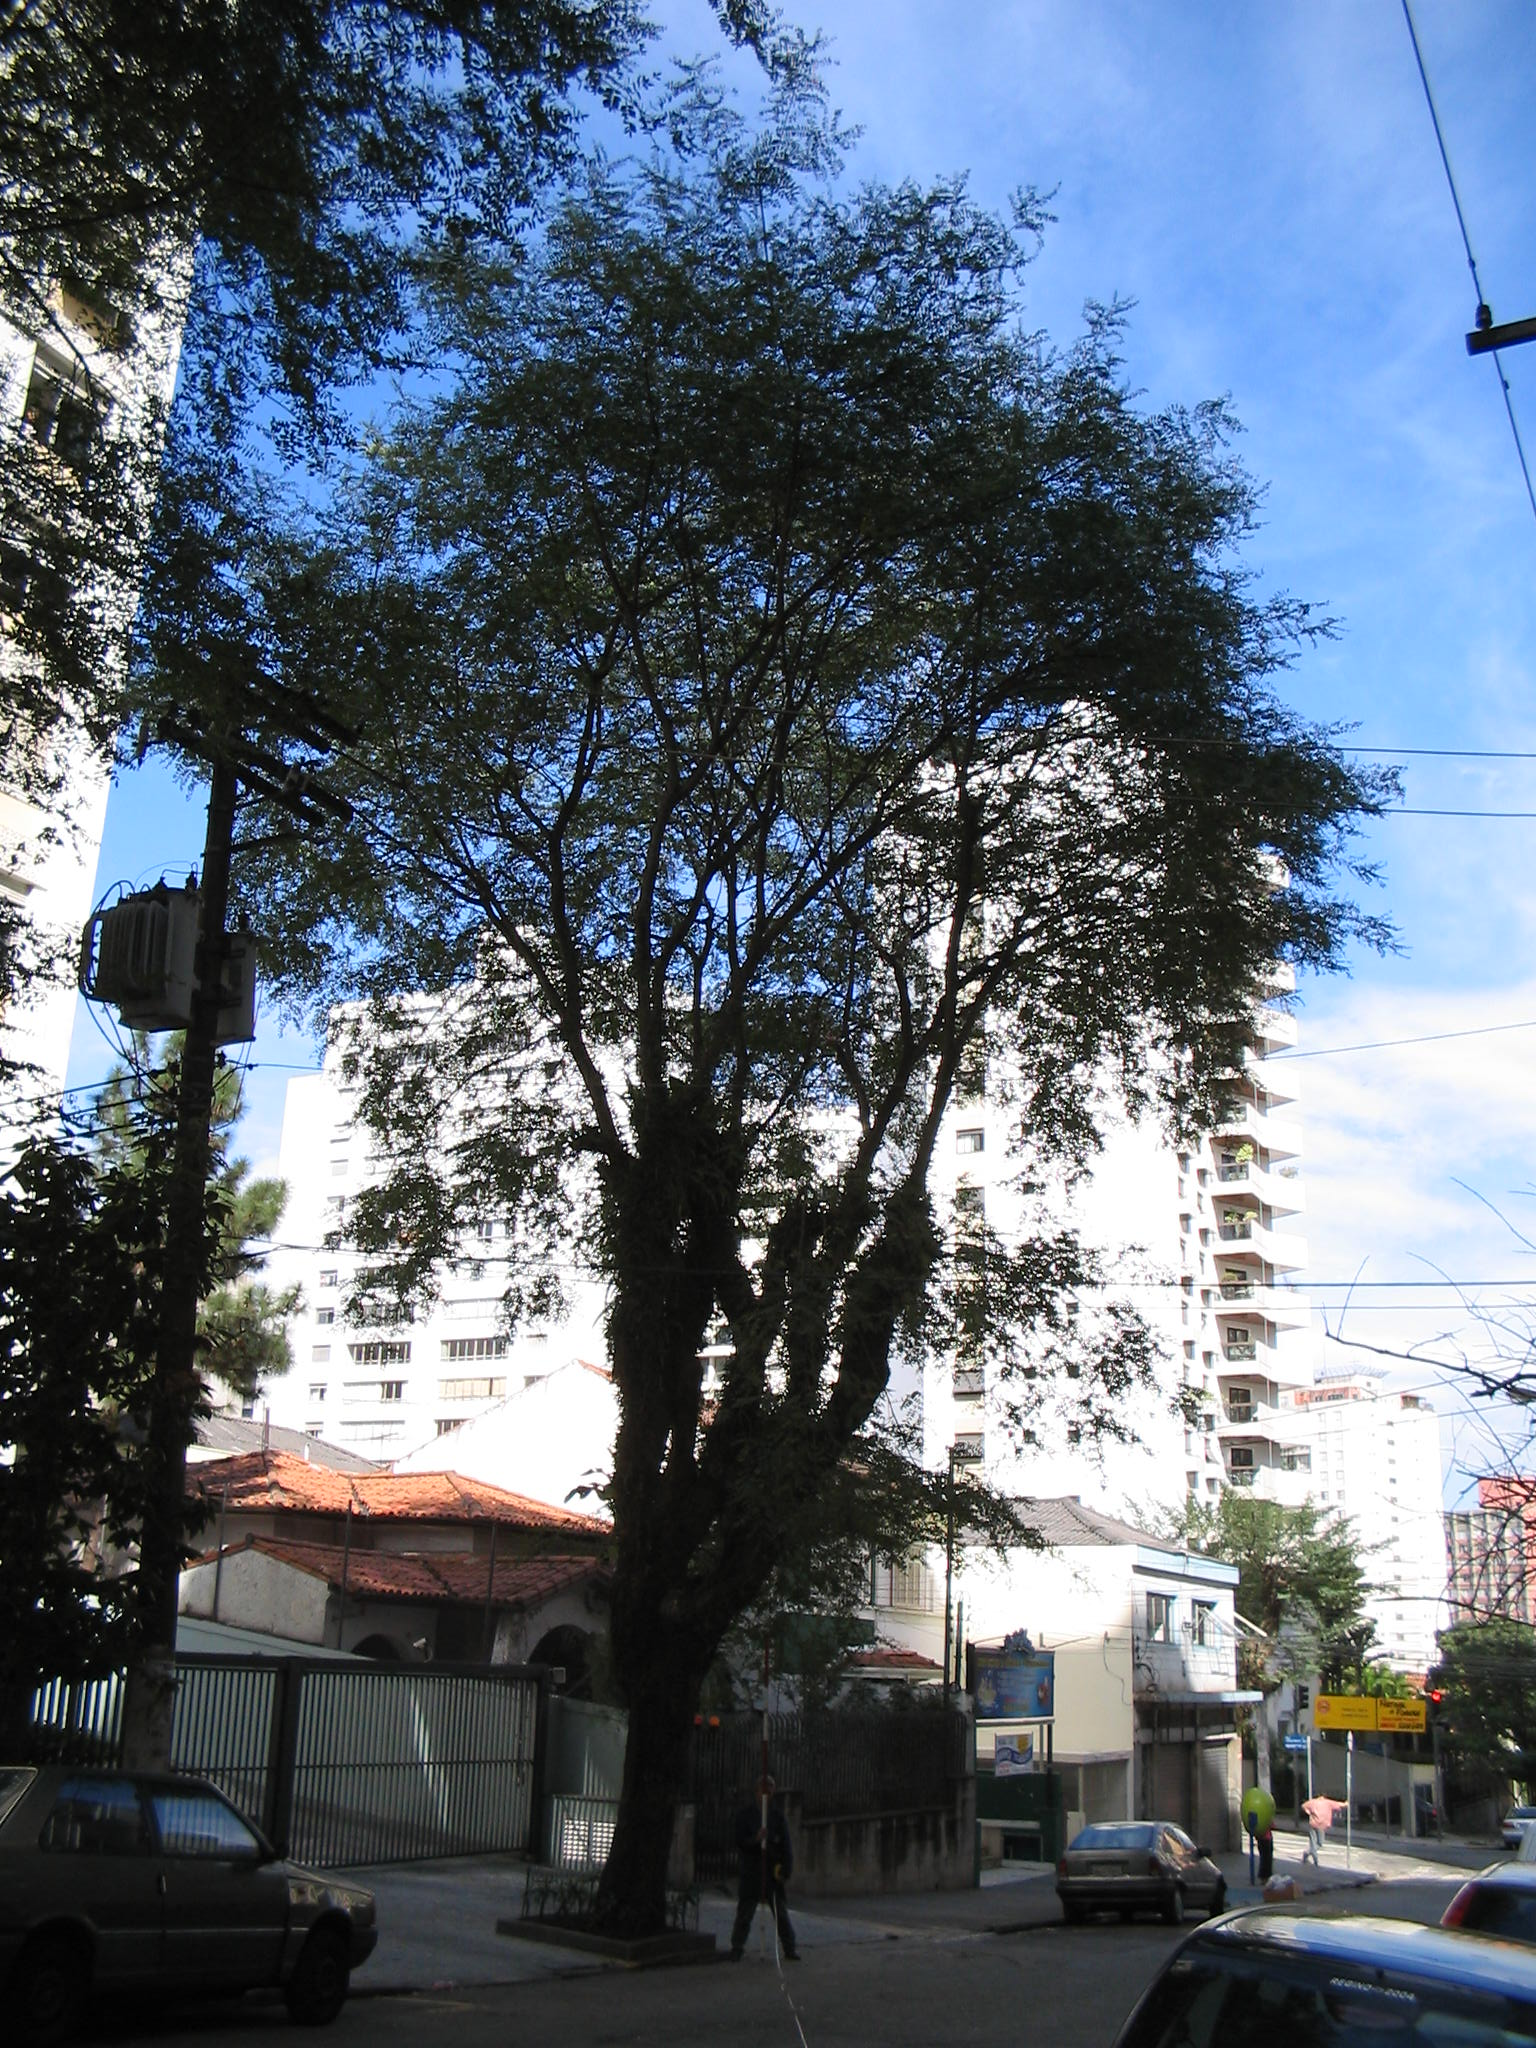crown: (168, 111, 1407, 1434)
stem: (579, 1658, 716, 1938)
stick: (737, 1630, 787, 1959)
tree: (157, 103, 1415, 1942)
